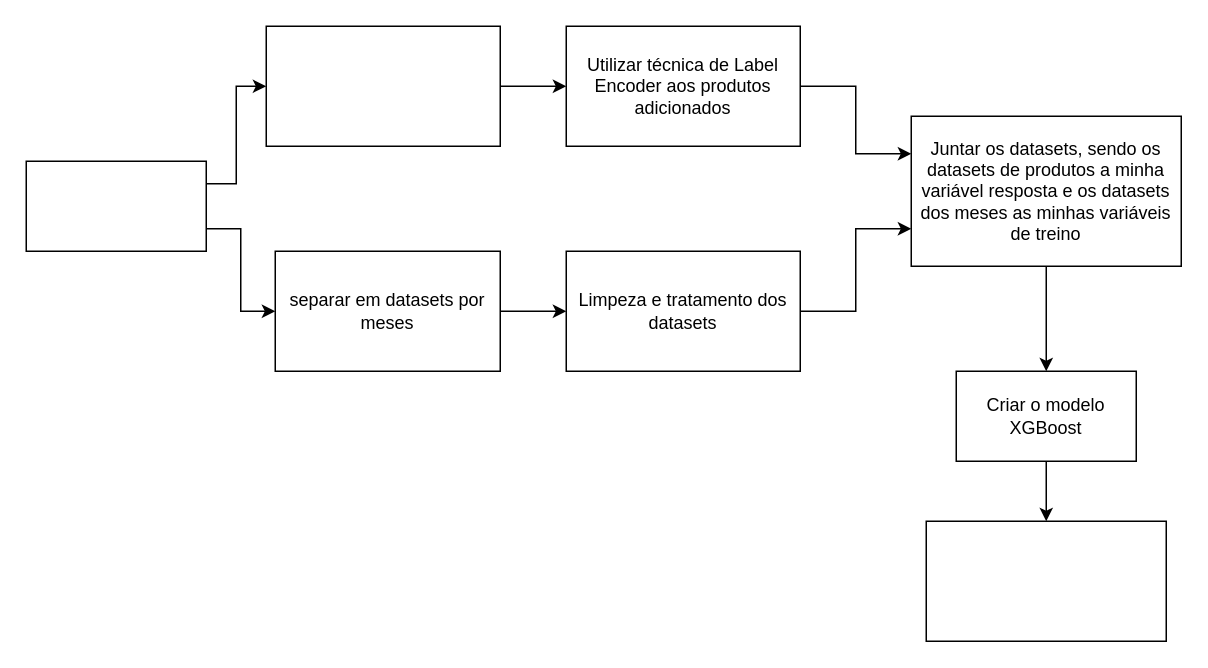
This 1208x668 diagram has some shape labels left out. The centre of each missing label's shape, as x and y in pixels:
"Avaliar e criar o sistema em Streamlit" goes at point (1045, 580).
"criar datasets de produtos adicionados por cada usuário em cada mês" goes at point (382, 85).
"dataset inicial de treino" goes at point (115, 205).
